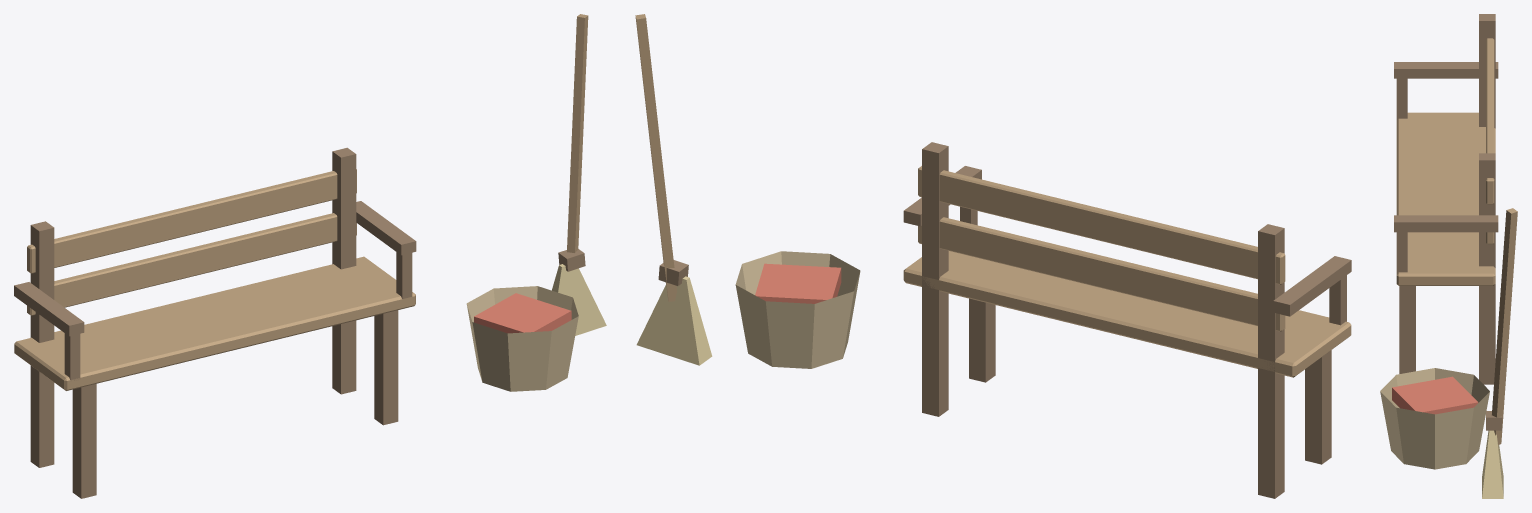
The model's file is door-bench_v2.glb.
3 renders of one model, left to right at view 1: azimuth 30°, elevation 25°; view 2: azimuth 150°, elevation 25°; view 3: azimuth 270°, elevation 25°, orthographic. The views are drawn at different scales.
Visible parts, largest first — view 1: door-bench; view 2: door-bench; view 3: door-bench.
Part boxes in pixels (x1,y1,x2,y2): door-bench: [14, 14, 606, 498]; door-bench: [635, 14, 1351, 498]; door-bench: [1380, 14, 1517, 498].
Bounding box in the file's own units: 2.33 × 1.16 × 0.501.
